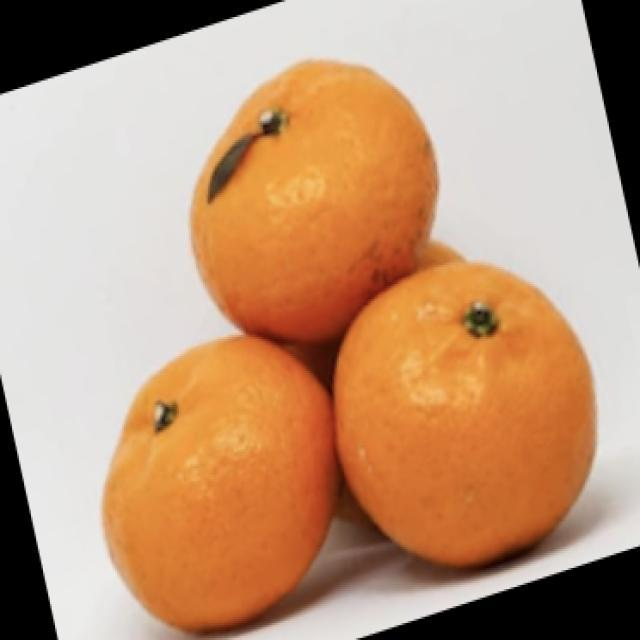matang: (336, 262, 594, 564), (191, 61, 437, 342), (103, 337, 338, 630)
